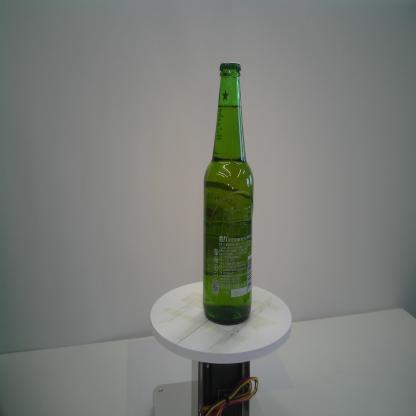Alcohol: (200, 60, 255, 328)
